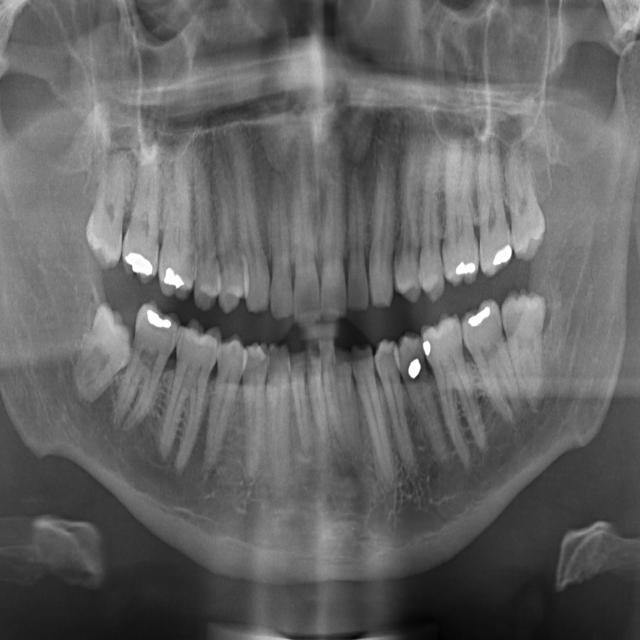AmalgamRestoration: (464, 305, 494, 334), (162, 258, 185, 294), (125, 250, 155, 275), (146, 305, 172, 332), (493, 242, 514, 268), (454, 258, 477, 281), (405, 355, 424, 380), (423, 341, 433, 356)
ImpactedTooth: (501, 290, 548, 413)
